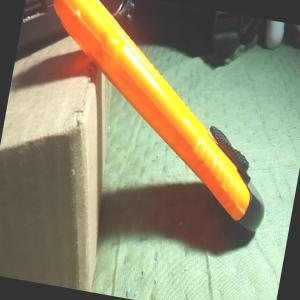estilete: (17, 0, 297, 232)
